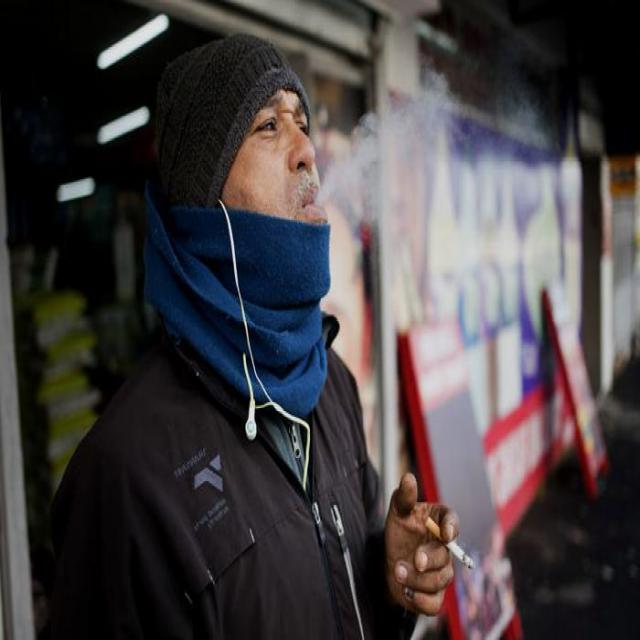smoke: (420, 508, 478, 577)
